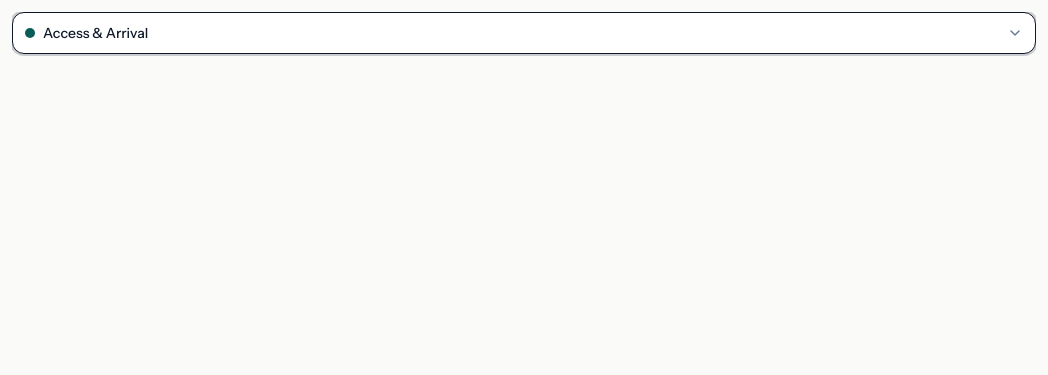
Test: UI Primitives › SelectPopover supports keyboard navigation, search filtering (> 6 options), and selection without native <select>
This screenshot has width=1048, height=375.
Press Enter
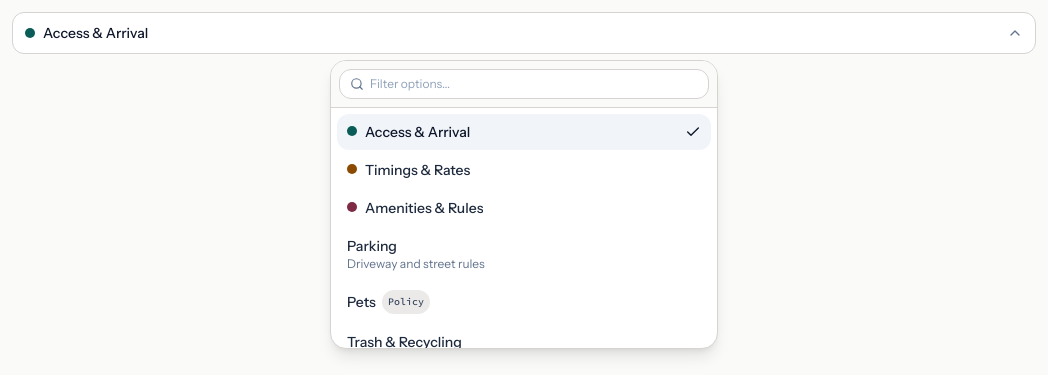
Type "Vendors" into the search field labelled "Filter options". click: (534, 84)
box: [370, 76, 698, 92]
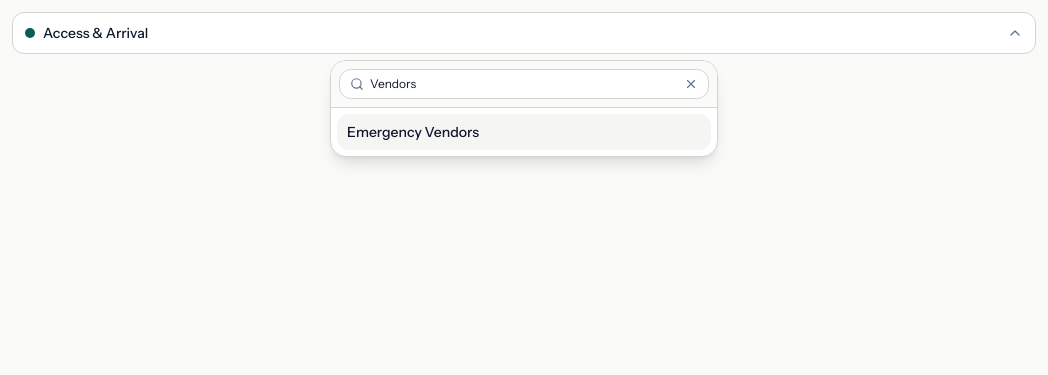
Press Enter
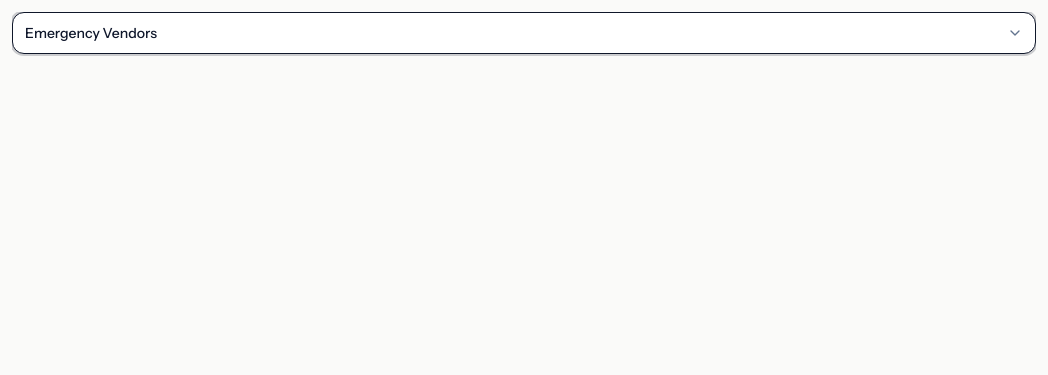
Expected: the list is gone
